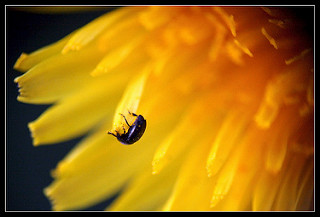dandelion: (11, 6, 313, 211)
